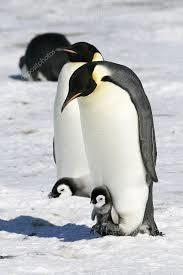emporer: (59, 50, 158, 244)
